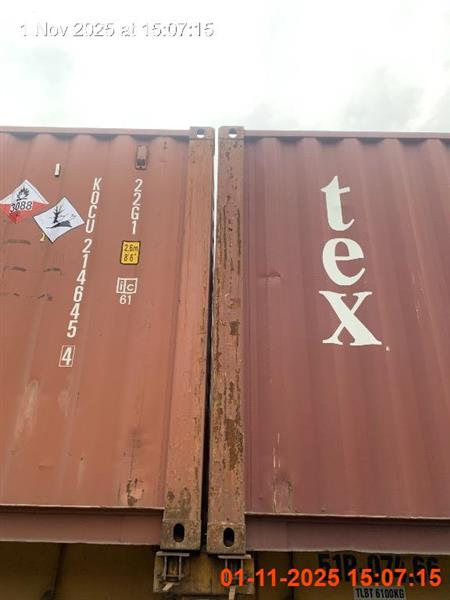crack: (1, 126, 447, 598), (1, 126, 447, 597)
